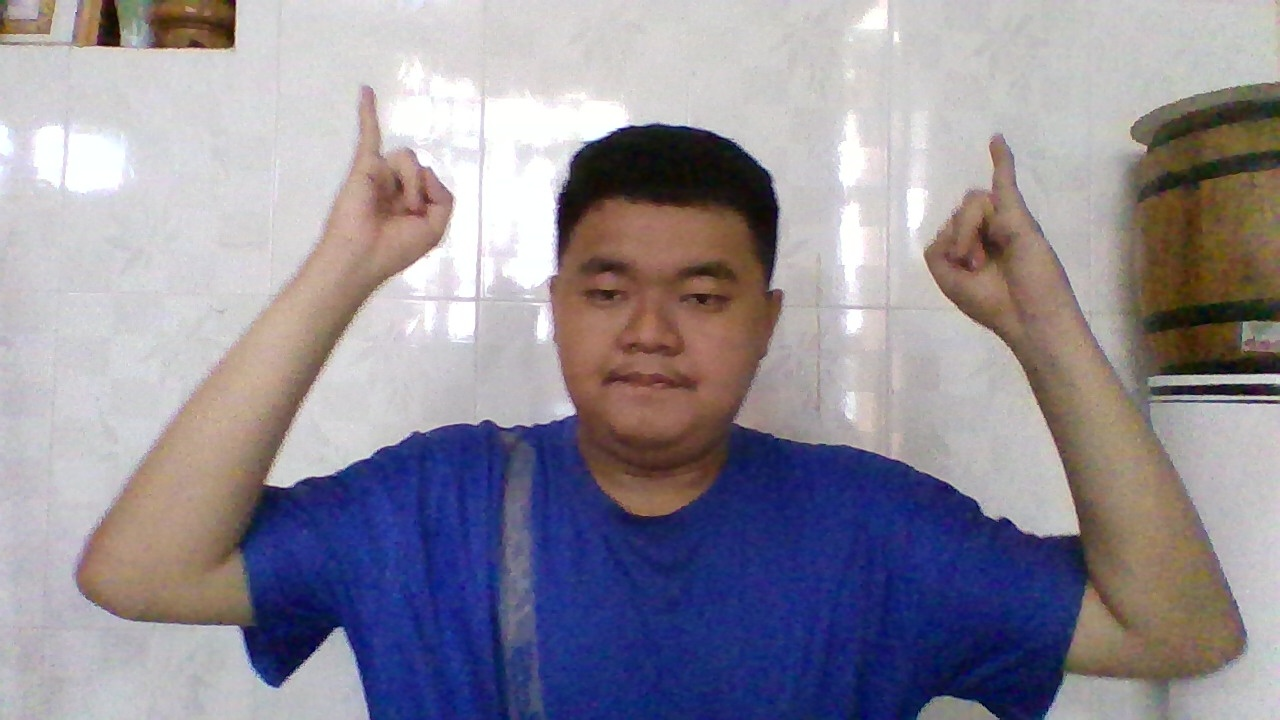I: (917, 130, 1050, 343), (342, 90, 466, 279)
